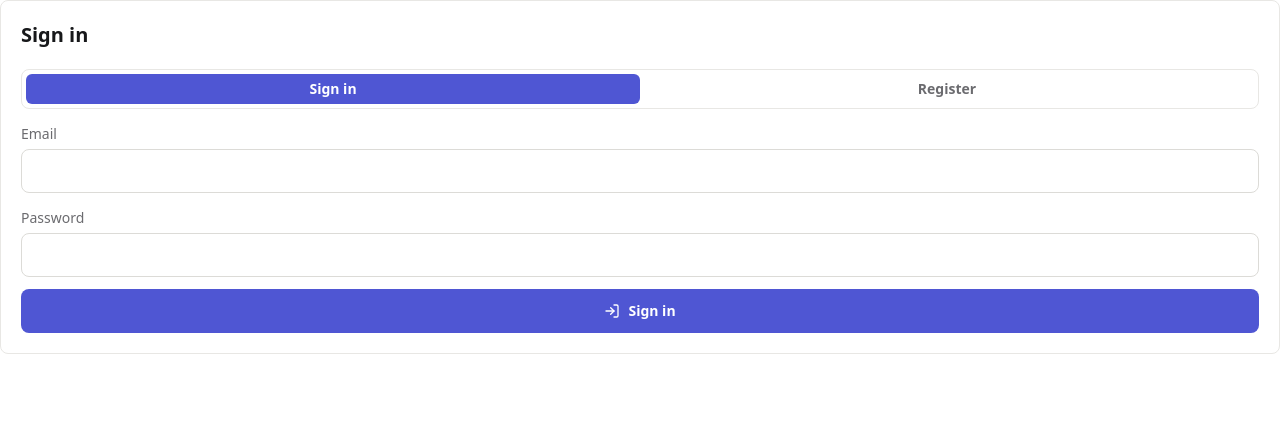
AuthPanel › shows a confirmation notice when registration creates no immediate session
Click the button "Register".
click(947, 89)  # box [640,74,1254,104]
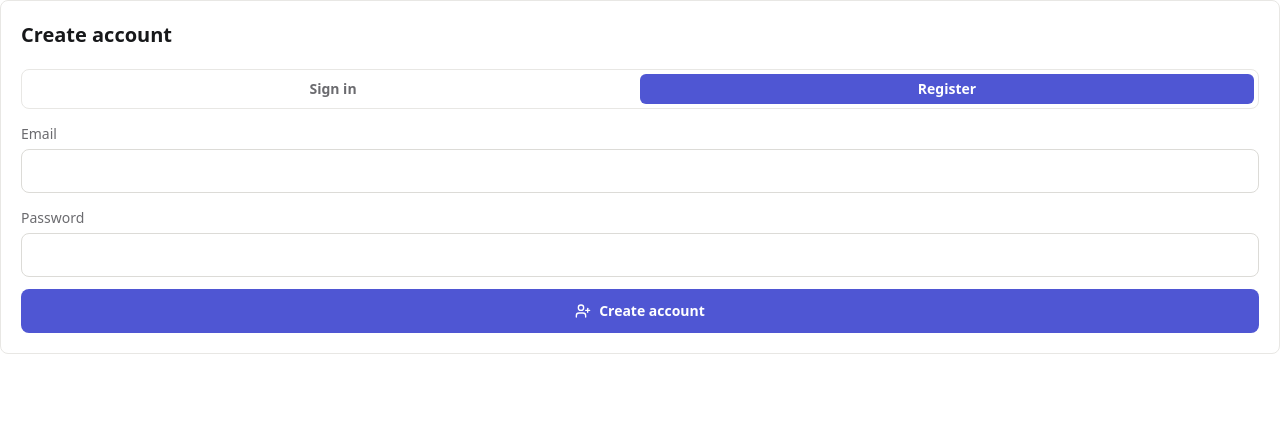
Type "player@example.com" into the field labelled "Email".
click(640, 171); type("player@example.com")  # box [21,149,1259,193]
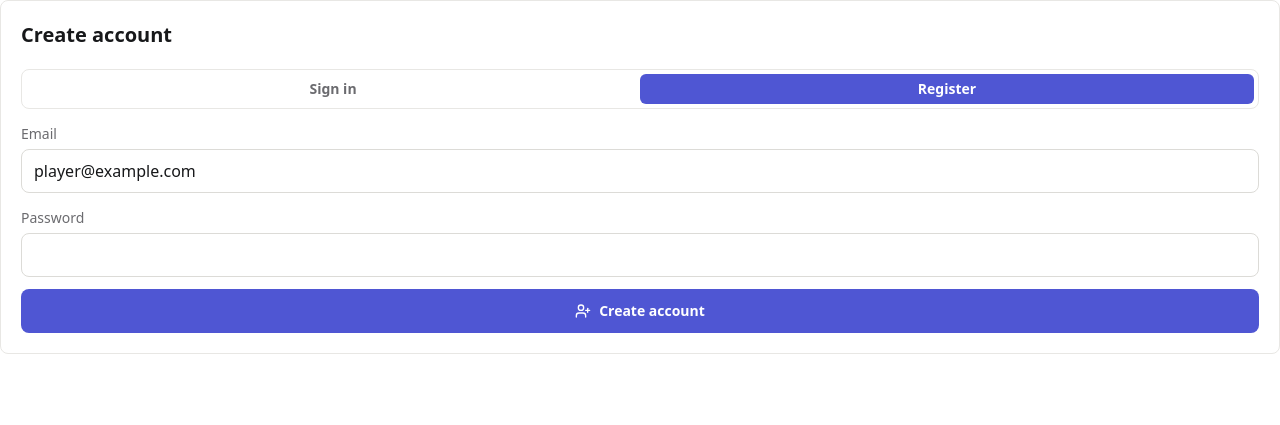
Type "secret" into the password field labelled "Password".
click(640, 255); type("secret")  # box [21,233,1259,277]
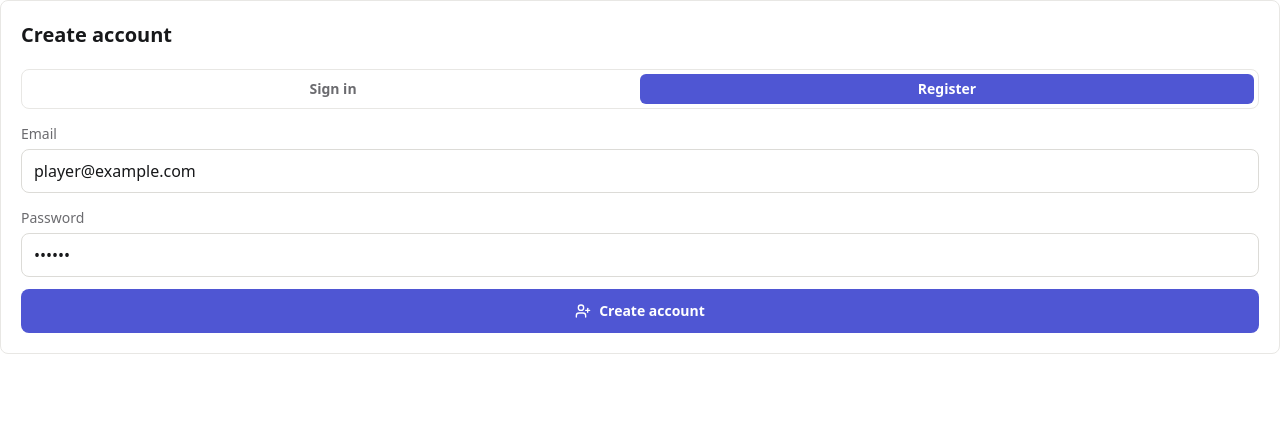
Click the button "Create account".
click(640, 311)  # box [21,289,1259,333]
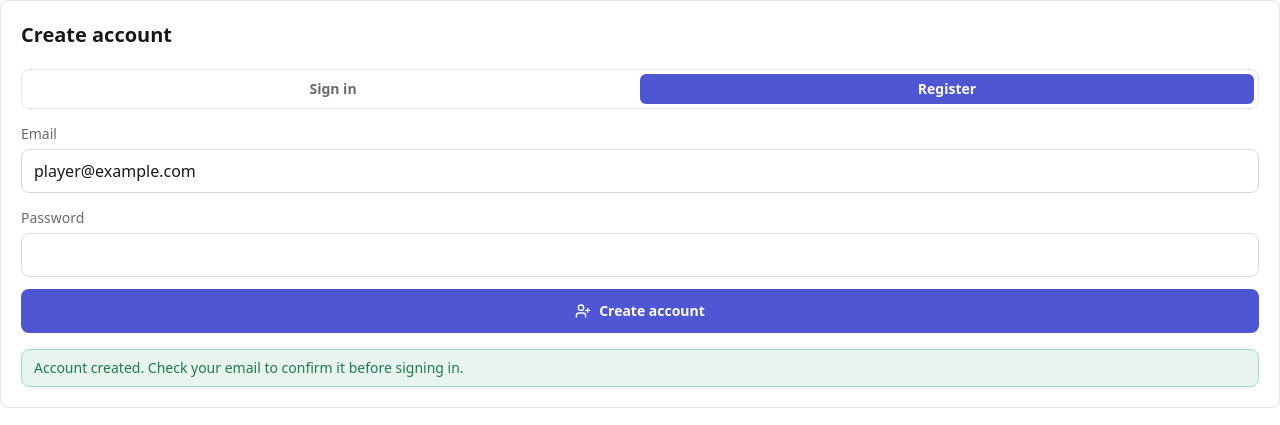
expect the message reads "Account created. Check your email to confirm it before signing in.": met, box [34,358,464,377]
